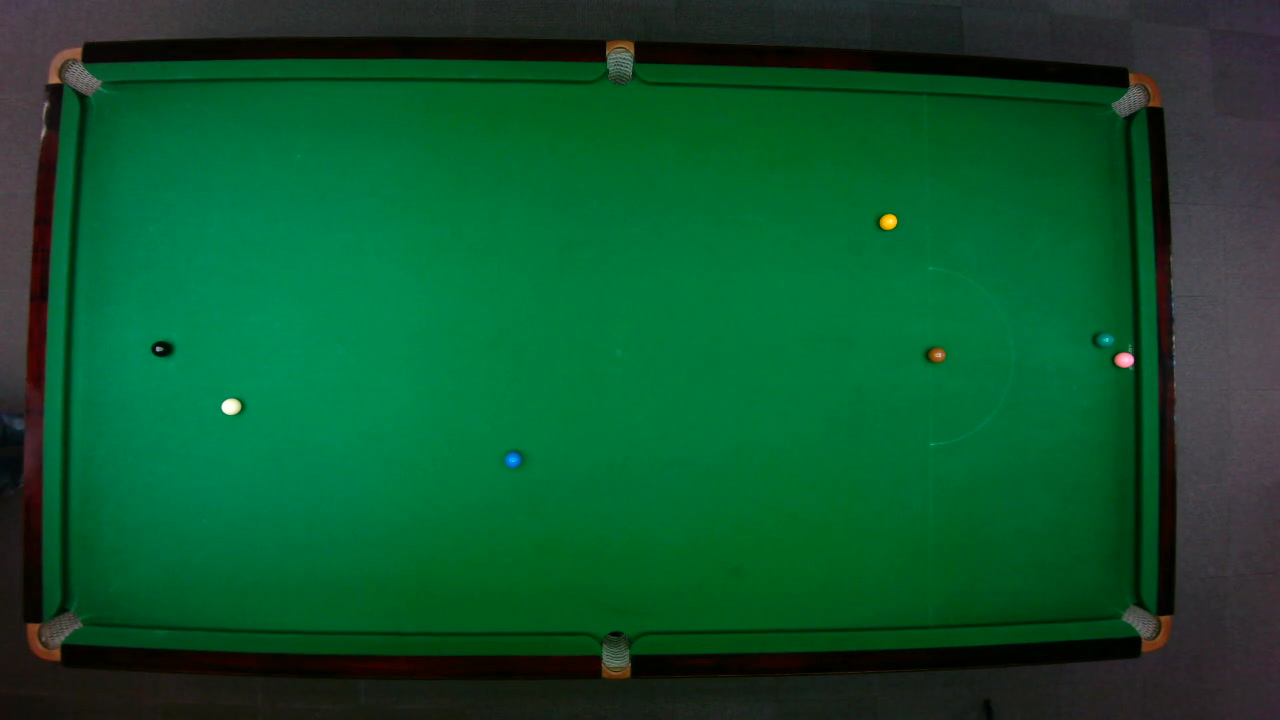bag: (25, 609, 83, 661), (45, 46, 101, 96), (1119, 603, 1171, 652), (1108, 71, 1161, 118), (600, 629, 629, 680), (605, 38, 633, 85)
black: (149, 339, 171, 357)
blue: (504, 449, 523, 468)
brown: (926, 346, 946, 362)
green: (1093, 330, 1114, 348)
pink: (1112, 350, 1135, 368)
white: (219, 396, 242, 415)
yellow: (877, 211, 898, 230)
zone: (927, 265, 1013, 445)
